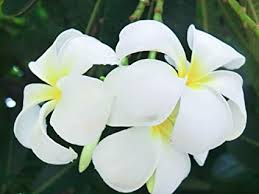frangipani: (105, 19, 248, 158)
